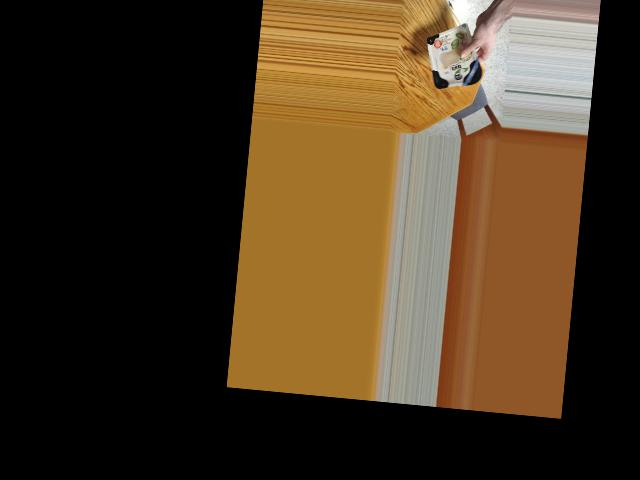cheese: (423, 30, 487, 94)
